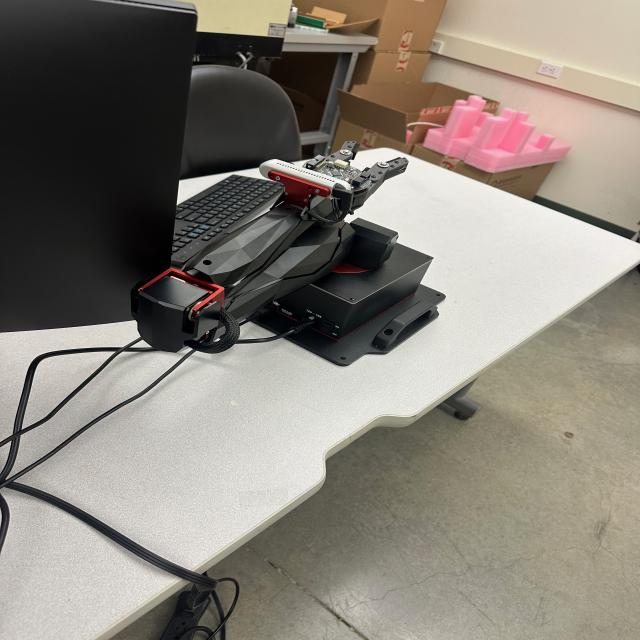monitor: (0, 0, 205, 337)
robotic-arm: (123, 135, 421, 360)
